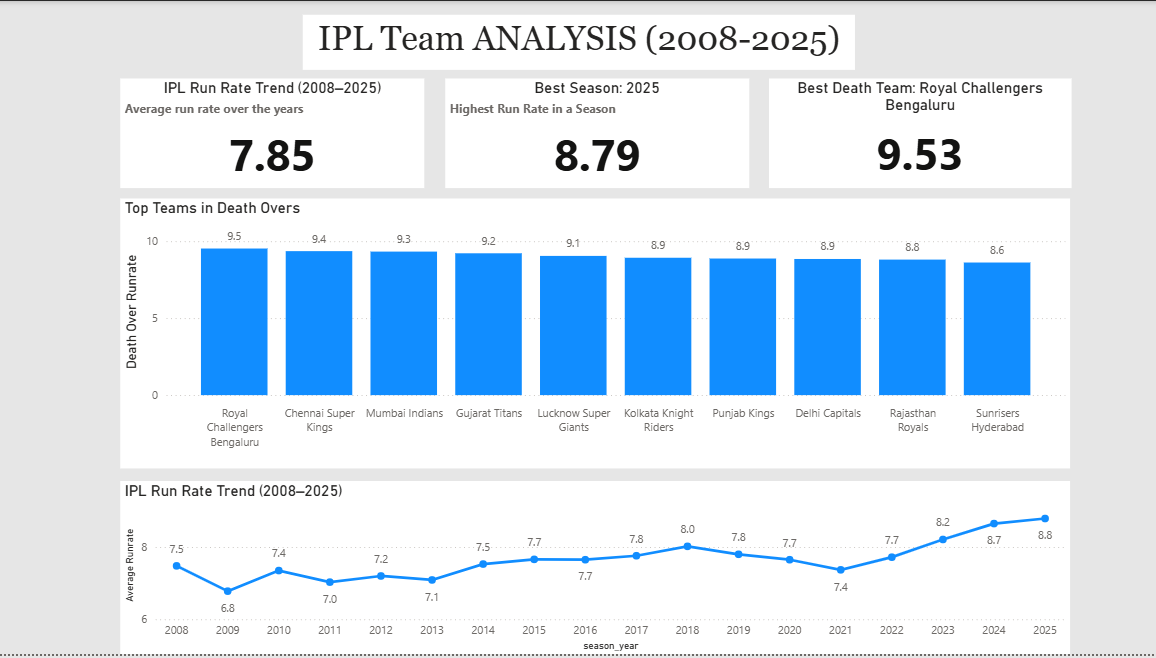

The page's visual inventory and layout, read from the dashboard file:
{"tool":"powerbi","page":{"name":"Team Analysis","canvas":[1280,720],"ordinal":1},"visuals":[{"type":"clusteredColumnChart","title":"Top Teams in Death Overs","fields":{"Category":["DeathTeams.team"],"Y":["Sum(DeathTeams.death_over_run_rate)"]},"box":[133.7,218,1047.4,297.8],"z":0,"group":"g1"},{"type":"lineChart","title":"IPL Run Rate Trend (2008–2025)","fields":{"Category":["Season.season_year"],"Y":["Sum(Season.run_rate)"]},"box":[133.7,528.6,1047.4,192.5],"z":1000,"group":"g1"},{"type":"cardVisual","title":"IPL Run Rate Trend (2008–2025)","fields":{"Data":["Avg(Phase.run_rate)"]},"box":[134,85.4,335.2,120.5],"z":2000,"group":"g1"},{"type":"cardVisual","fields":{"Data":["Max(DeathTeams.death_over_run_rate)"]},"box":[848.4,85.6,333.4,120.4],"z":3000,"group":"g1"},{"type":"cardVisual","fields":{"Data":["Max(Season.run_rate)"]},"box":[492,85.6,335.1,120.4],"z":4000,"group":"g1"},{"type":"group","id":"g1","title":"Group 1","box":[133.7,85.4,1048.8,635.3],"z":4001},{"type":"textbox","box":[335.4,15.2,609.1,60.6],"z":4002}]}

Visuals, with their boxes in screenshot pixels (x1, y1, x2, y2), scaled from the page's 1280x720 canvas onto the 1156x658 screenshot:
"Top Teams in Death Overs" clusteredColumnChart: select_region(121, 199, 1067, 471)
"IPL Run Rate Trend (2008–2025)" lineChart: select_region(121, 483, 1067, 657)
"IPL Run Rate Trend (2008–2025)" cardVisual: select_region(121, 78, 424, 188)
cardVisual - Max(DeathTeams.death_over_run_rate): select_region(766, 78, 1067, 188)
cardVisual - Max(Season.run_rate): select_region(444, 78, 747, 188)
"Group 1" group: select_region(121, 78, 1068, 657)
textbox: select_region(303, 14, 853, 69)
